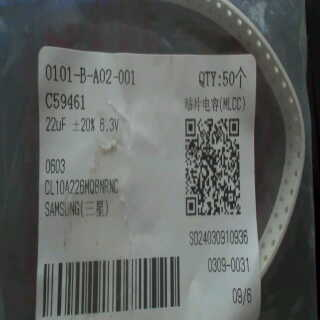22uF: (42, 115, 74, 134)
